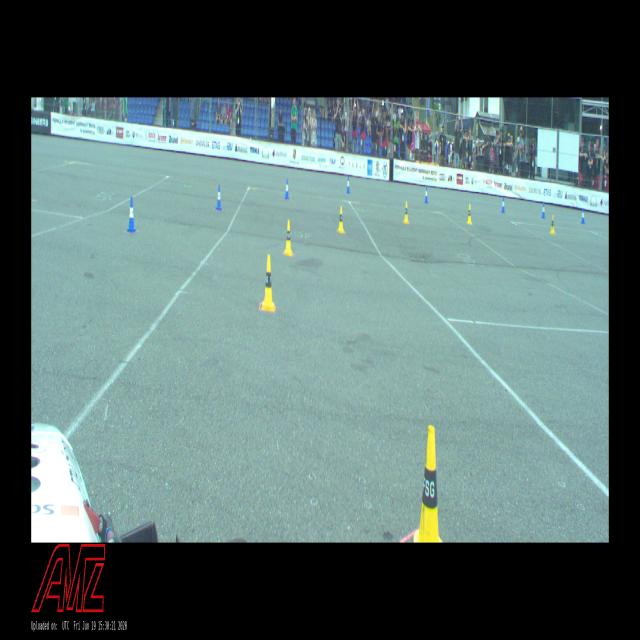blue_cone: (127, 198, 136, 232), (216, 185, 222, 210), (284, 179, 290, 199), (346, 176, 350, 193), (501, 197, 505, 213), (424, 186, 428, 202), (581, 209, 585, 224), (542, 203, 545, 219)
yellow_cone: (413, 426, 444, 542), (261, 254, 274, 309), (283, 219, 293, 256), (337, 206, 344, 234), (403, 201, 409, 224), (466, 204, 472, 225), (549, 216, 555, 233)
